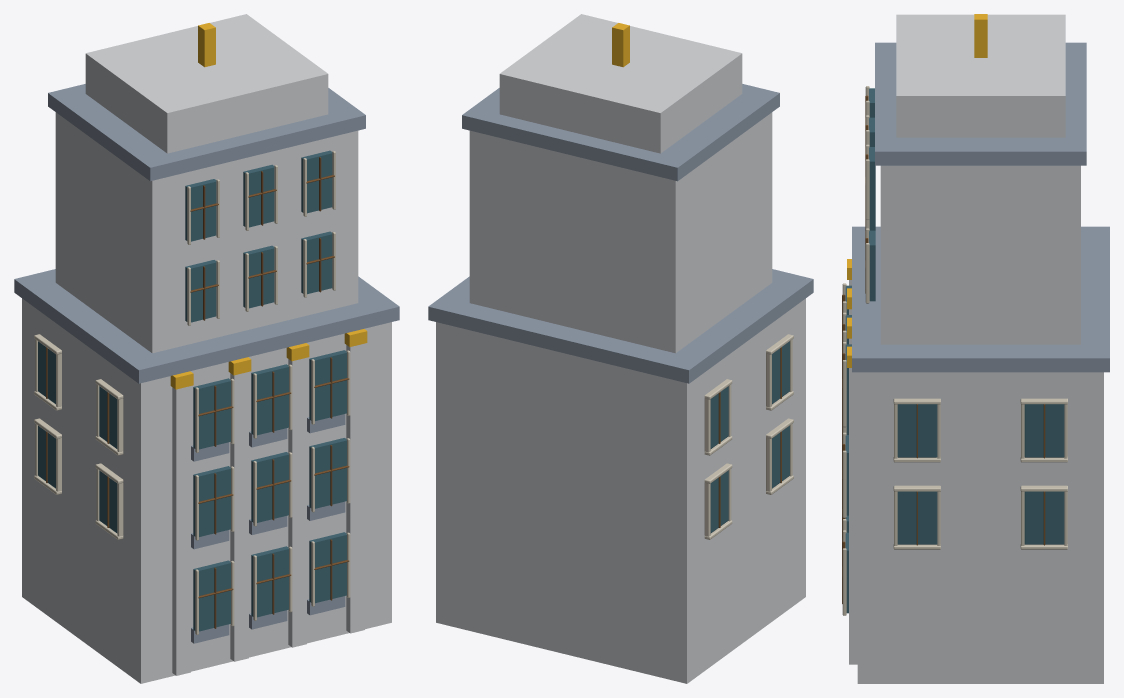
The model's file is city_detail_v2_04.glb.
3 views of the same model, side by side, from view 1: azimuth 30°, elevation 25°; view 2: azimuth 150°, elevation 25°; view 3: azimuth 270°, elevation 25° (orthographic). The views are drawn at different scales.
Visible parts, largest first — view 1: Exterior architecture detail 4; view 2: Exterior architecture detail 4; view 3: Exterior architecture detail 4.
Boxes of the visible parts, x1,y1,x2,y2 form: Exterior architecture detail 4: (14,14,399,683); Exterior architecture detail 4: (428,14,813,683); Exterior architecture detail 4: (842,14,1109,683).
Bounding box in the file's own units: 8.14 × 17.3 × 6.95.
